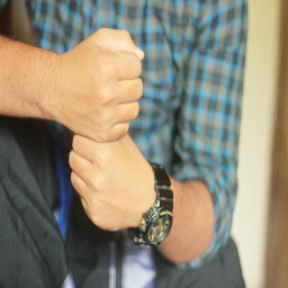G: (53, 22, 160, 232)
